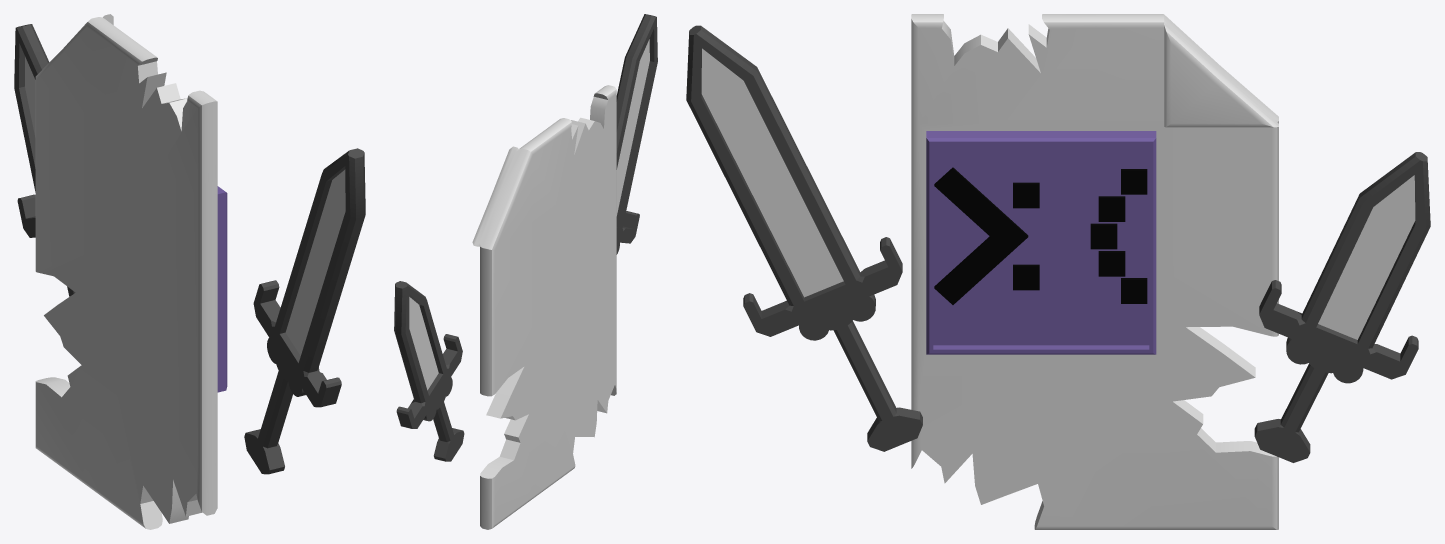
File: Junk_Troop (2).fbx
The picture shows the model from 3 angles, left to right: view 1: azimuth 30°, elevation 25°; view 2: azimuth 150°, elevation 25°; view 3: azimuth 270°, elevation 25°; orthographic projection. The views are drawn at different scales.
Parts seen in each view (by area): view 1: Junk_Troop_; view 2: Junk_Troop_; view 3: Junk_Troop_.
Boxes of the visible parts, x1=… form: Junk_Troop_: x1=14, y1=14, x2=365, y2=529; Junk_Troop_: x1=394, y1=14, x2=657, y2=529; Junk_Troop_: x1=686, y1=14, x2=1430, y2=529.
Size of the model in its own units: 0.1901 by 1.36 by 1.75.
